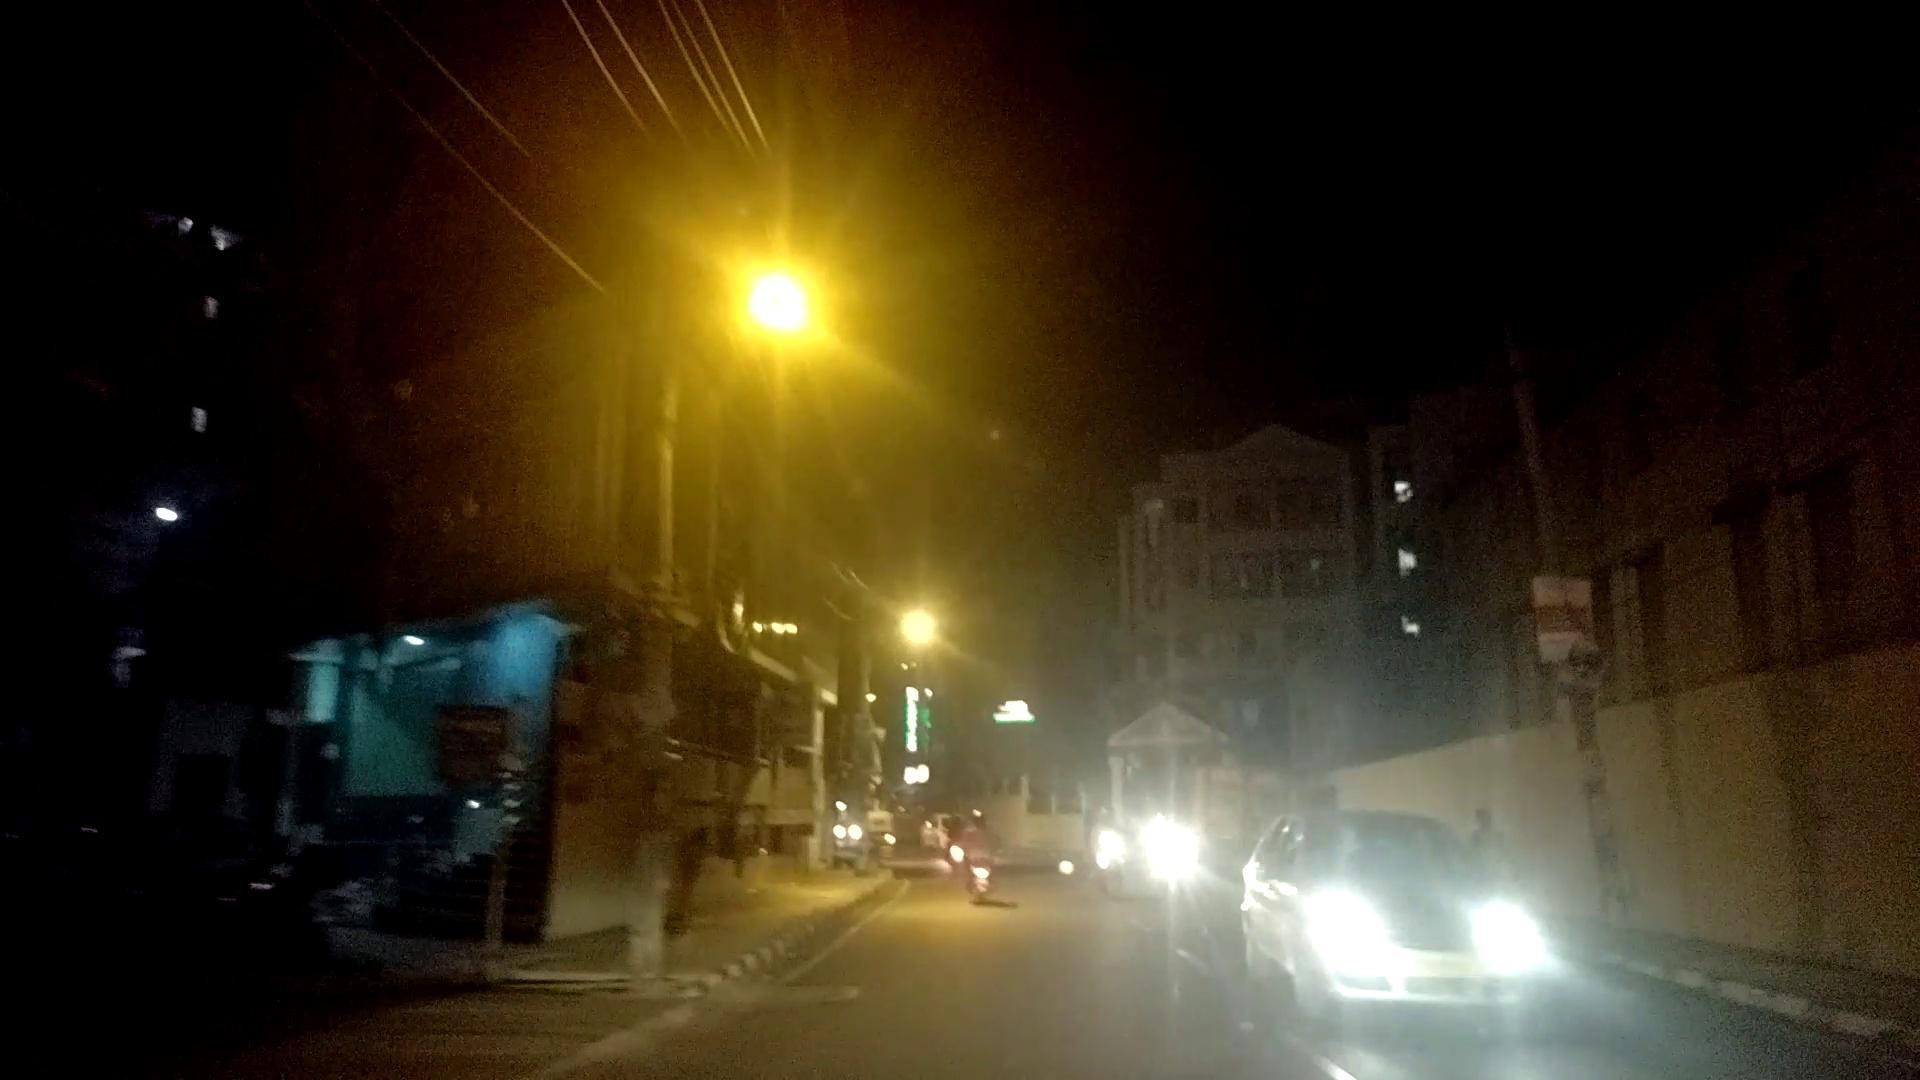on: (620, 123, 943, 539)
